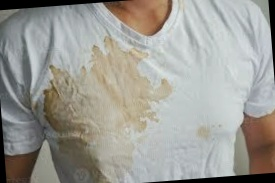coffee: (40, 49, 165, 183), (196, 124, 213, 142)
